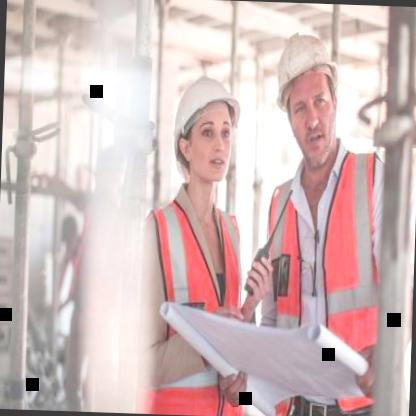helmet: (270, 13, 356, 184), (164, 53, 249, 212)
